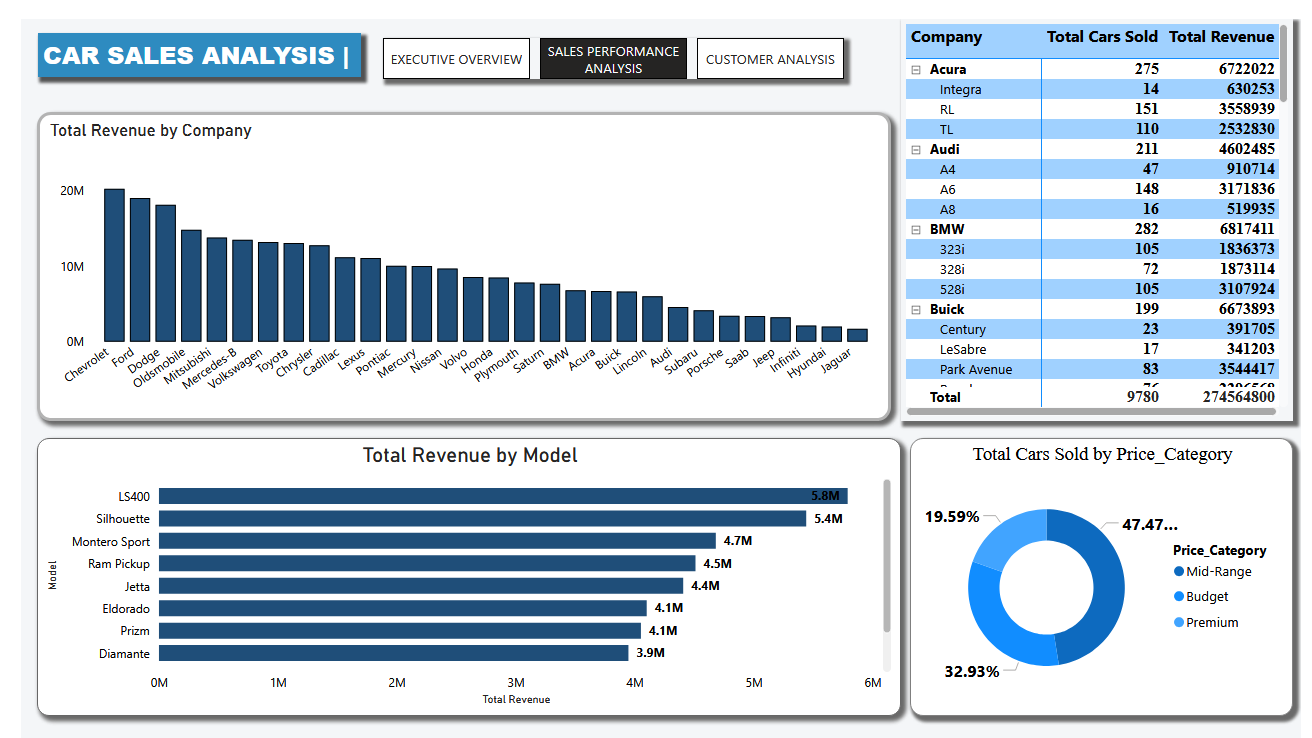

Layout of this report page (visuals, bound fields, positions):
{"tool":"powerbi","page":{"name":"SALES PERFORMANCE ANALYSIS","canvas":[1280,720],"ordinal":1},"visuals":[{"type":"textbox","box":[16.7,14.3,323.8,44],"z":0},{"type":"clusteredColumnChart","fields":{"Category":["Car Sales.Company"],"Y":["Car Sales.Total Revenue"]},"box":[16.5,93.3,853.5,308.7],"z":1000},{"type":"donutChart","fields":{"Y":["Car Sales.Total Cars Sold"],"Category":["Car Sales.Price_Category"]},"box":[889.2,418.5,382.8,278.6],"z":2000},{"type":"pivotTable","fields":{"Rows":["Car Sales.Company","Car Sales.Model"],"Values":["Car Sales.Total Cars Sold","Car Sales.Total Revenue"]},"box":[879.6,0,392.5,402.1],"z":3000},{"type":"barChart","fields":{"Category":["Car Sales.Model"],"Y":["Car Sales.Total Revenue"]},"box":[16.5,418.5,863.1,278.6],"z":4000},{"type":"pageNavigator","box":[362.5,19,460.2,40.7],"z":5000}]}

Visuals, with their boxes in screenshot pixels (x1, y1, x2, y2), scaled from the page's 1280x720 canvas onto the 1312x738 screenshot:
textbox: (17, 15, 349, 60)
clusteredColumnChart - Car Sales.Company x Car Sales.Total Revenue: (17, 96, 892, 412)
donutChart - Car Sales.Total Cars Sold x Car Sales.Price_Category: (911, 429, 1304, 715)
pivotTable - Car Sales.Company x Car Sales.Model: (902, 0, 1304, 412)
barChart - Car Sales.Model x Car Sales.Total Revenue: (17, 429, 902, 715)
pageNavigator: (372, 19, 843, 61)
